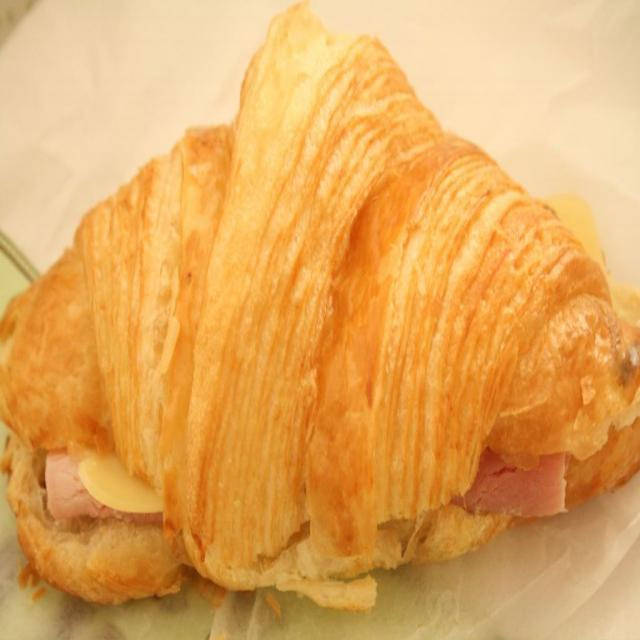Croissant: (0, 0, 639, 608)
